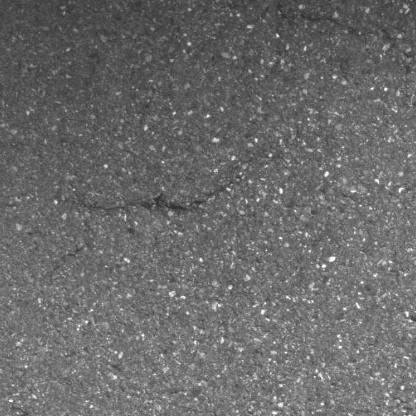Cracks: (83, 176, 240, 216), (260, 0, 371, 42), (394, 85, 416, 126)
